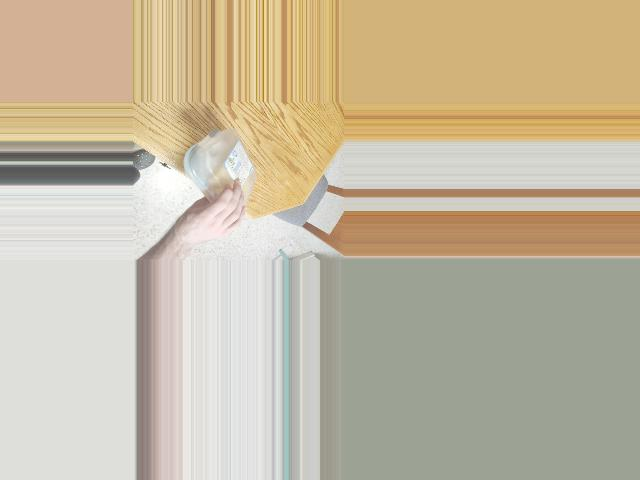cheese: (185, 126, 260, 220)
